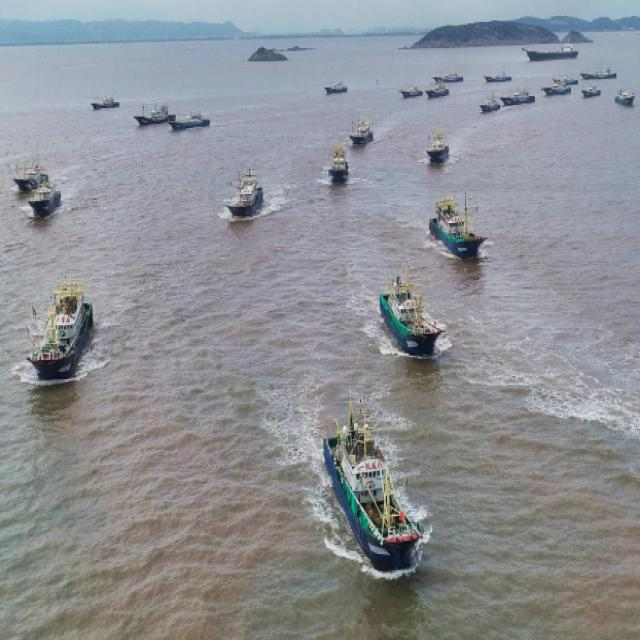fishing boat: (327, 388, 422, 571), (29, 276, 98, 372), (379, 265, 443, 354), (429, 193, 488, 255), (226, 167, 262, 218), (522, 41, 579, 62), (132, 99, 175, 126), (32, 176, 59, 218), (166, 108, 208, 131), (18, 160, 46, 194), (328, 144, 351, 184), (90, 88, 120, 110), (500, 89, 537, 106), (349, 120, 374, 144), (578, 66, 618, 79), (543, 80, 573, 96), (479, 95, 501, 116), (428, 81, 450, 100), (615, 88, 634, 109), (552, 73, 580, 85), (325, 80, 348, 93), (581, 85, 602, 98), (434, 73, 464, 82), (486, 73, 510, 84), (401, 86, 421, 98)
